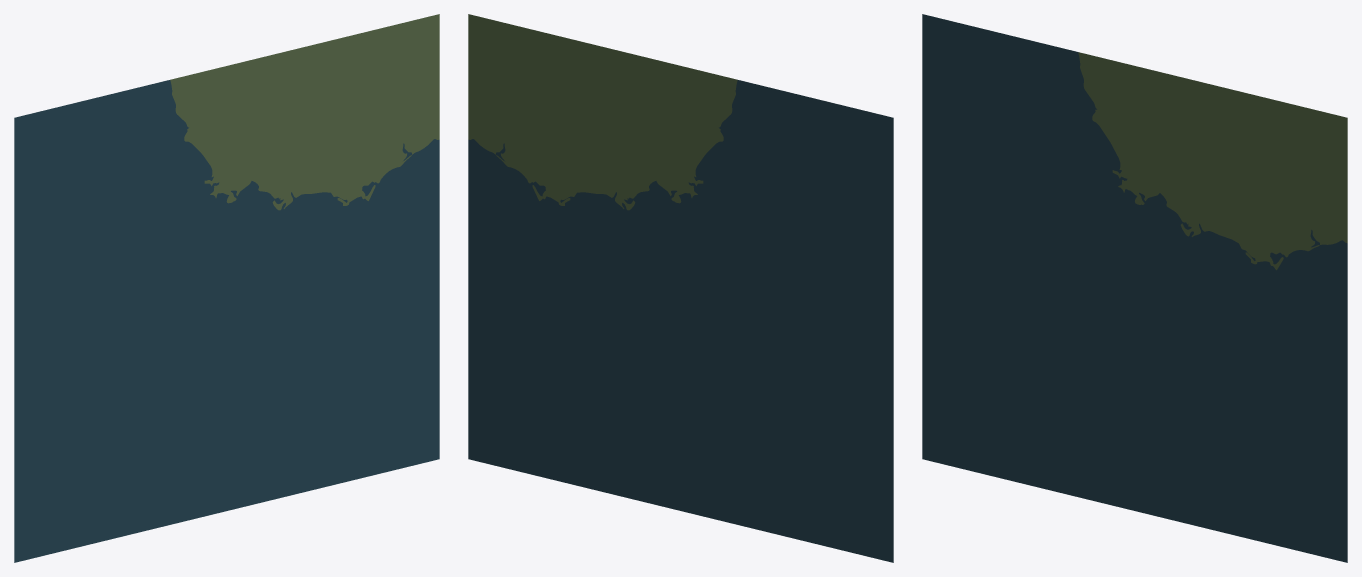
The model's file is shape_107_Coast_07.glb.
3 views of the same model, side by side, from view 1: azimuth 30°, elevation 25°; view 2: azimuth 150°, elevation 25°; view 3: azimuth 330°, elevation 25° (orthographic).
Bounding box in the file's own units: 4096 × 4096 × 0.
